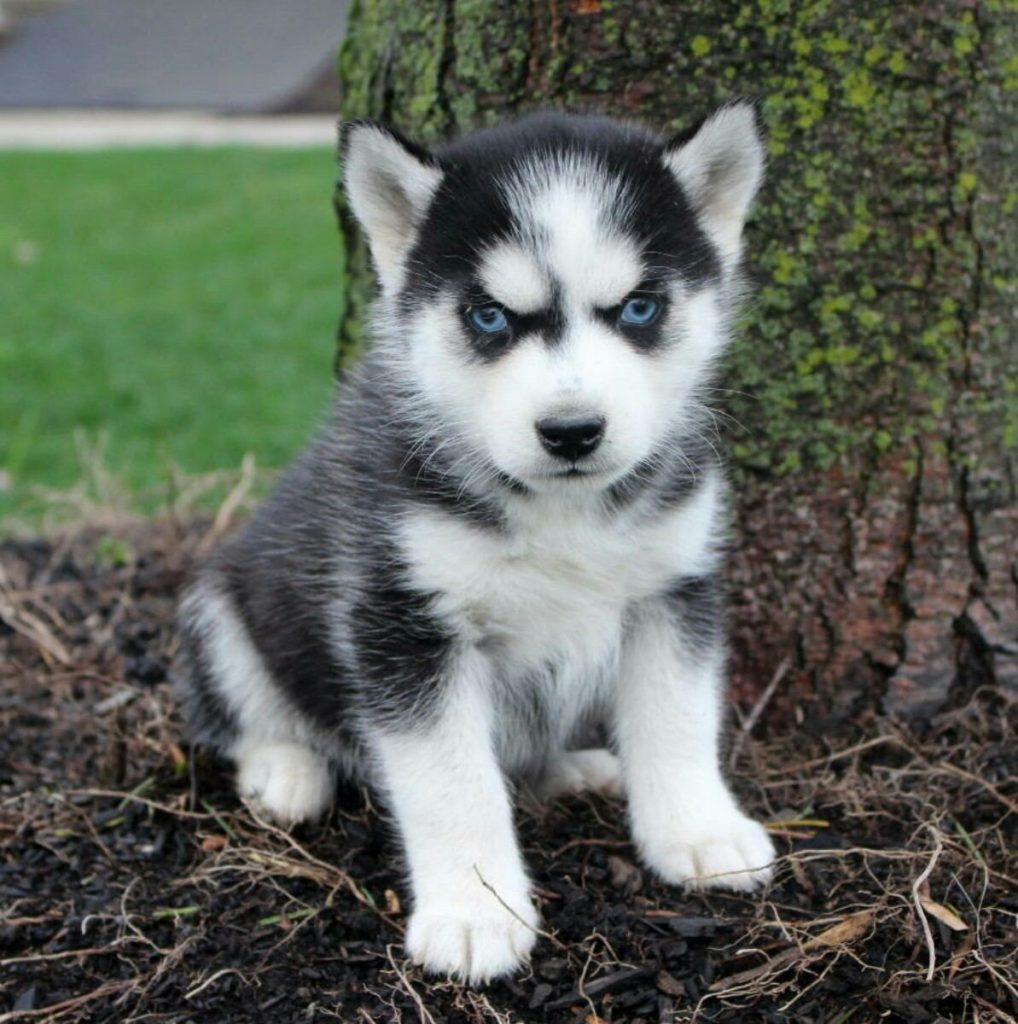husky: (177, 99, 828, 886)
